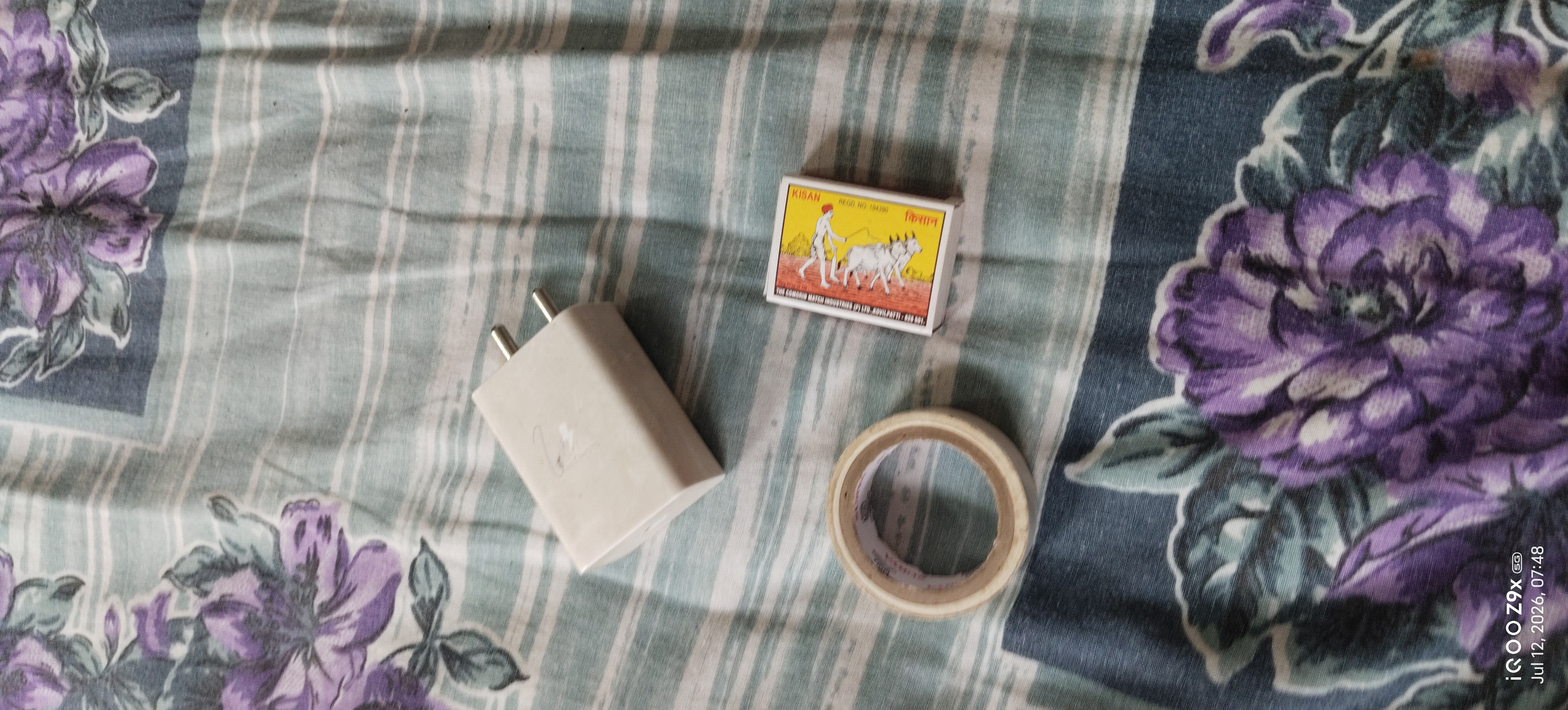charger: (448, 265, 753, 580)
matchbox: (748, 135, 978, 353)
tape_roll: (827, 374, 1056, 649)
